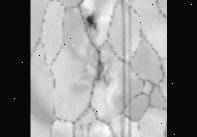good_void: (85, 13, 99, 29)
